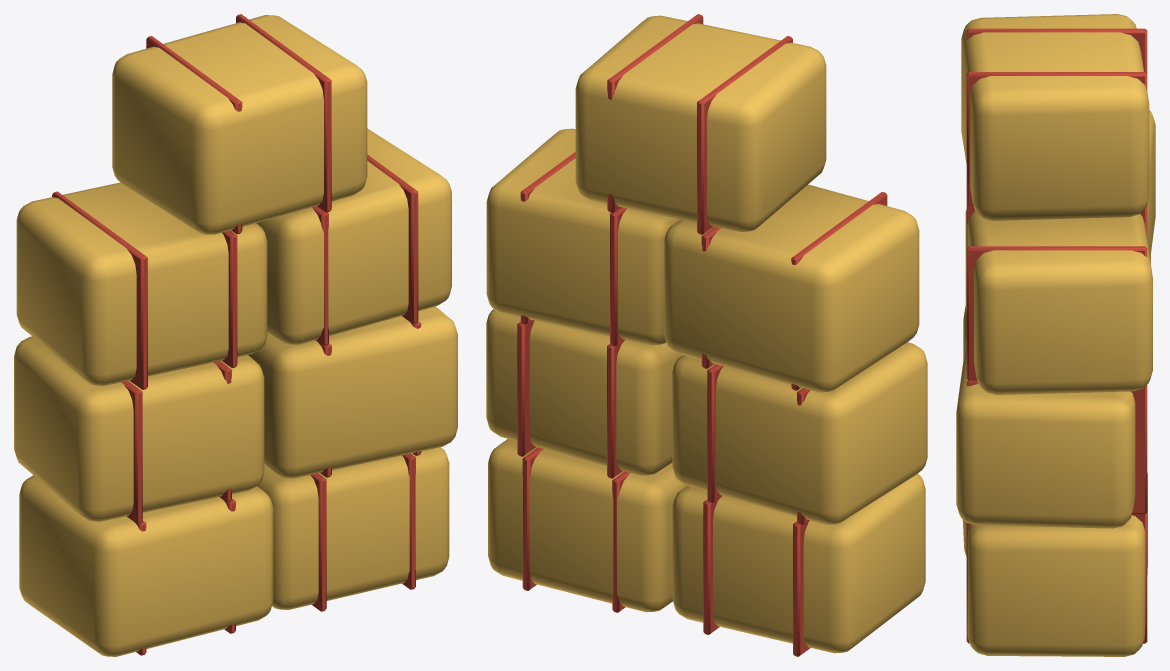
File: vl_crate.glb
The picture shows the model from 3 angles, left to right: view 1: azimuth 30°, elevation 25°; view 2: azimuth 150°, elevation 25°; view 3: azimuth 270°, elevation 25°; orthographic projection.
Visible parts, largest first — view 1: hay_stack; view 2: hay_stack; view 3: hay_stack.
Boxes of the visible parts, x1,y1,x2,y2 form: hay_stack: (14,14,457,656); hay_stack: (486,14,927,656); hay_stack: (956,14,1155,656).
Bounding box in the file's own units: 1.51 × 2.04 × 0.6963.
